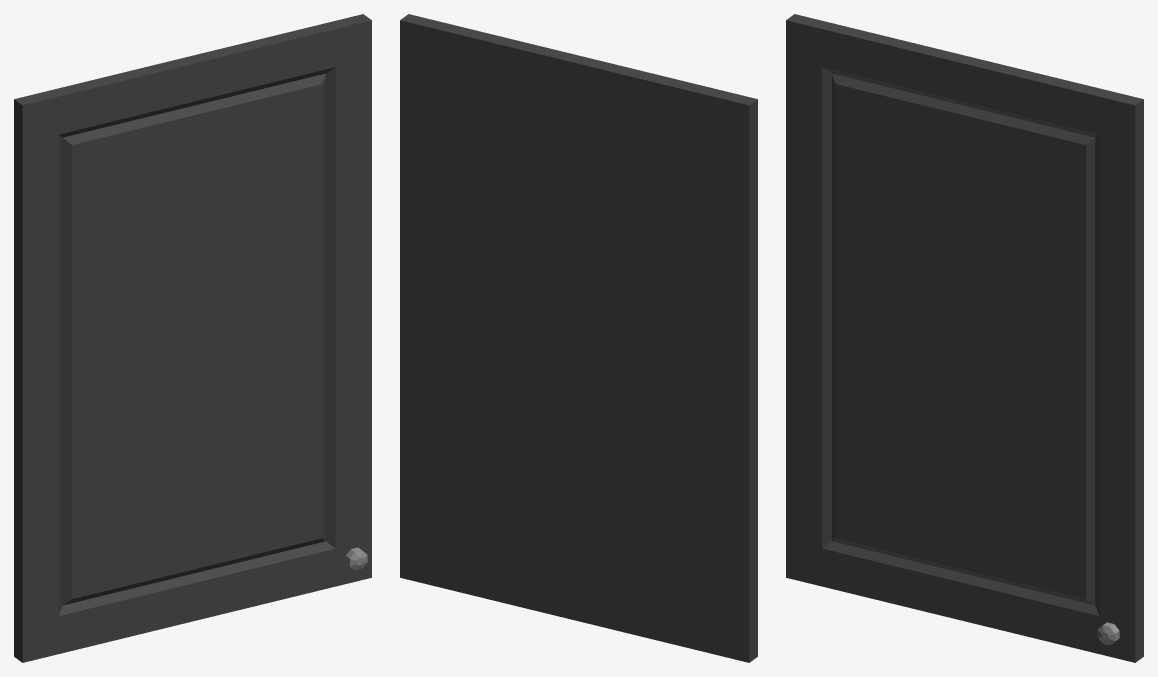
The model's file is Door3_C3_12.fbx.
The picture shows the model from 3 angles, left to right: view 1: azimuth 30°, elevation 25°; view 2: azimuth 150°, elevation 25°; view 3: azimuth 330°, elevation 25°; orthographic projection.
Parts seen in each view (by area): view 1: Door3_C3_12; view 2: Door3_C3_12; view 3: Door3_C3_12.
Boxes of the visible parts, left/top/right/bottom form: Door3_C3_12: left=14, top=14, right=371, bottom=662; Door3_C3_12: left=400, top=14, right=757, bottom=662; Door3_C3_12: left=786, top=14, right=1143, bottom=662.
Size of the model in its own units: 59 by 90 by 5.19.
